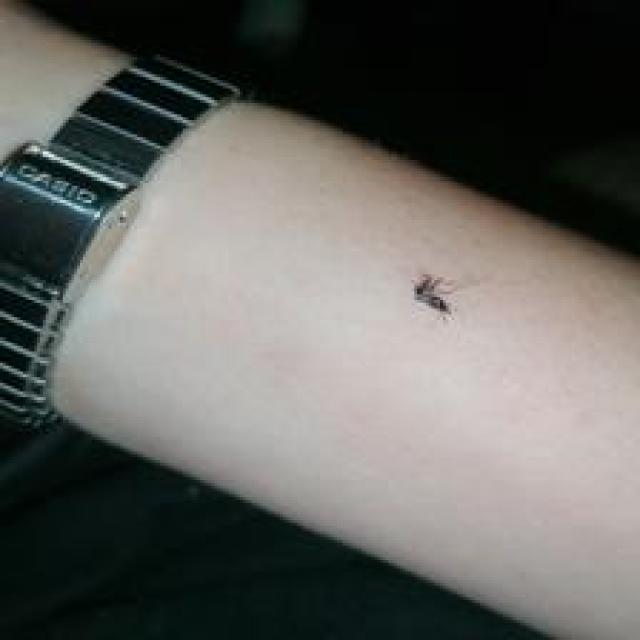Aedes albopictus: (410, 272, 456, 317)
